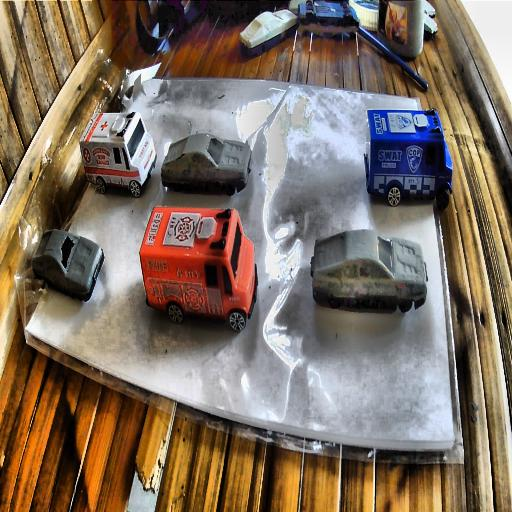ambulance: (78, 108, 157, 198)
fire_truck: (139, 205, 257, 331)
normal_car: (311, 230, 427, 313), (159, 132, 252, 198), (32, 228, 104, 303), (240, 8, 294, 58)
police car: (364, 107, 453, 210)
